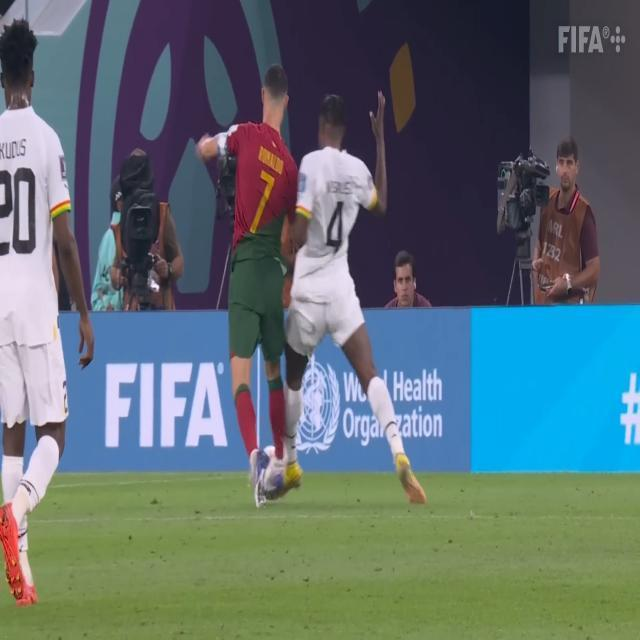football: (239, 439, 316, 496)
